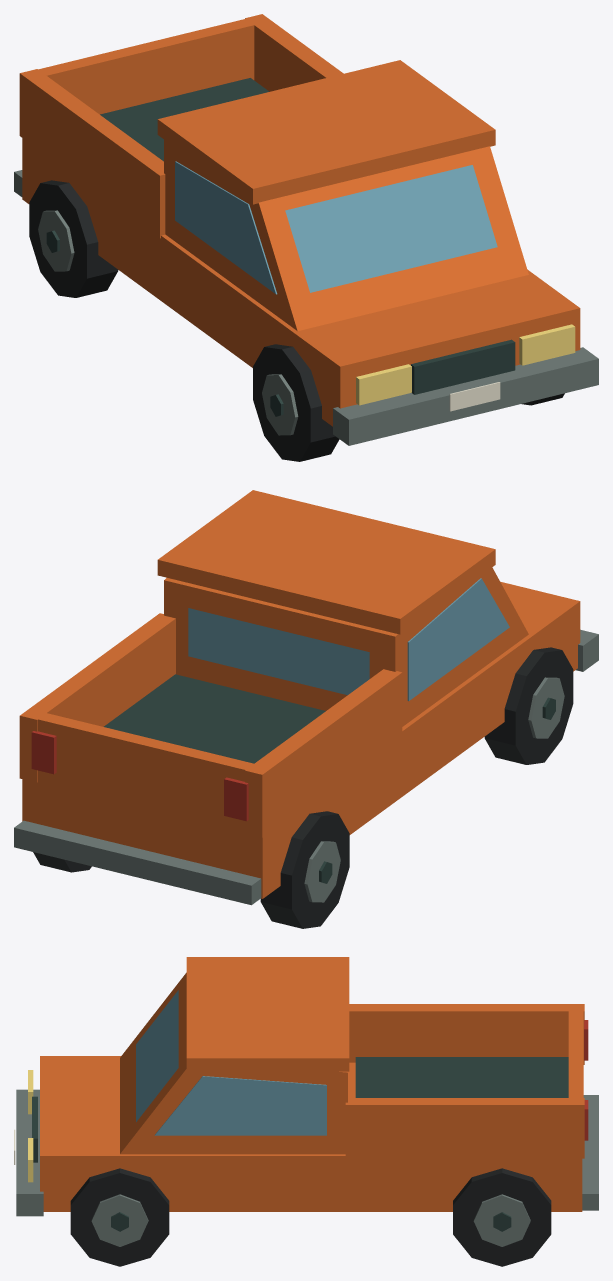
File: DeliveryPickup.obj
3 views of the same model, one above another, from view 1: azimuth 30°, elevation 25°; view 2: azimuth 150°, elevation 25°; view 3: azimuth 270°, elevation 25° (orthographic). The views are drawn at different scales.
Visible parts, largest first — view 1: DeliveryPickup; view 2: DeliveryPickup; view 3: DeliveryPickup.
Boxes of the visible parts, <box> form: DeliveryPickup: <box>14,14,598,461</box>; DeliveryPickup: <box>14,490,598,928</box>; DeliveryPickup: <box>14,957,598,1266</box>.
Size of the model in its own units: 2.2 by 1.83 by 4.75.
